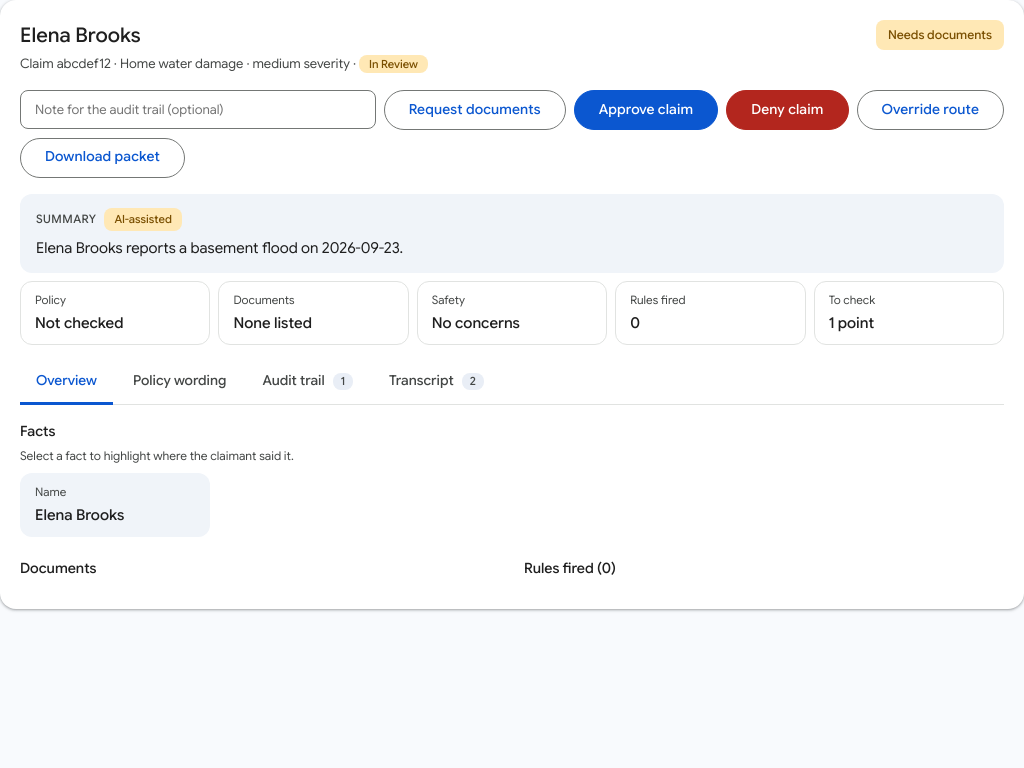
Test: ClaimDetailView › on a narrow screen, opens the transcript tab at the turn a fact came from
Expected: the text "I'm Elena Brooks." is not shown
Click the text "Elena Brooks". click: [80, 515]
box: [35, 506, 124, 524]
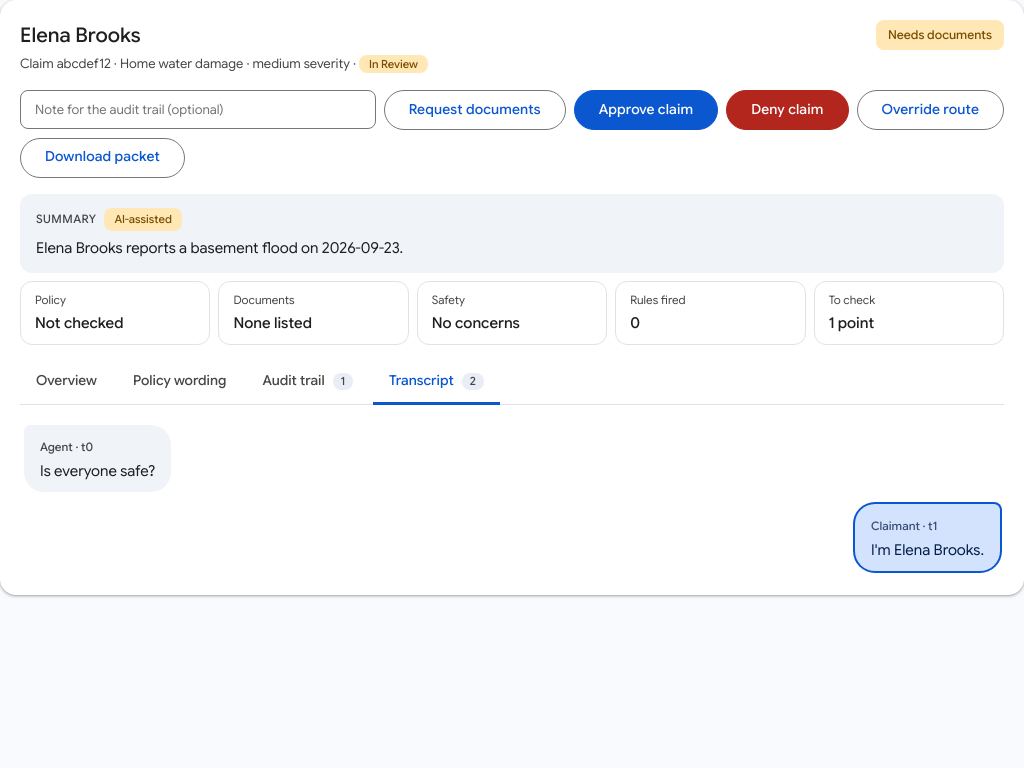
Expected: the list item "I'm Elena Brooks." is shown, [871, 540, 984, 558]
